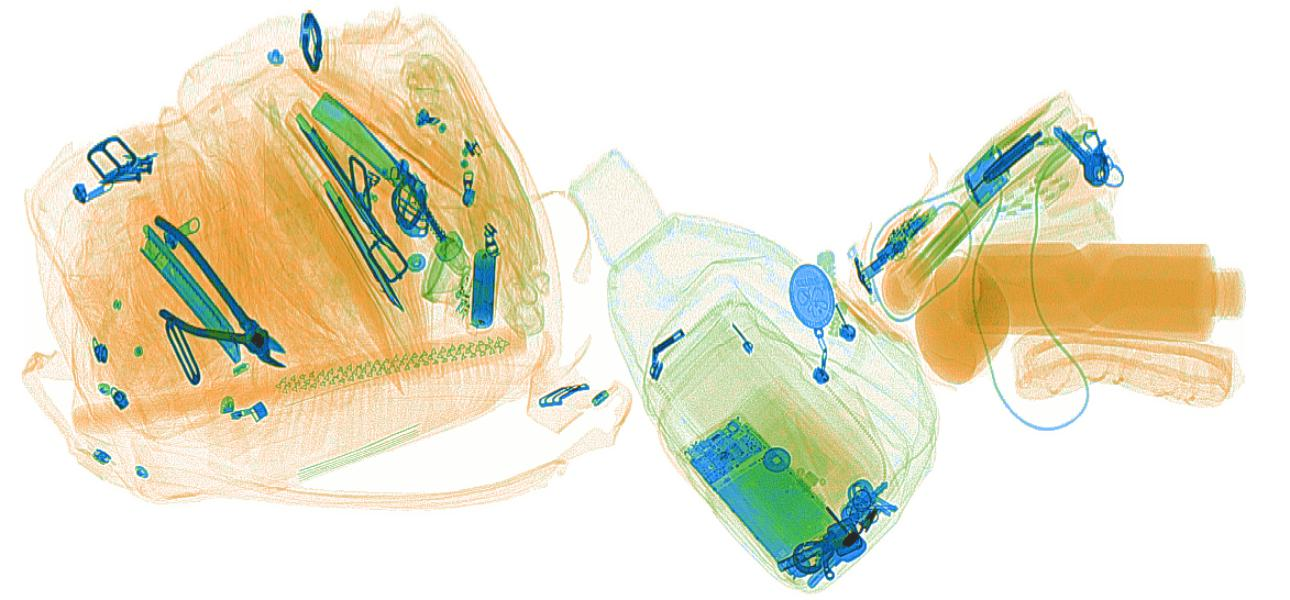battery: (470, 247, 497, 331)
knife: (137, 220, 242, 366)
